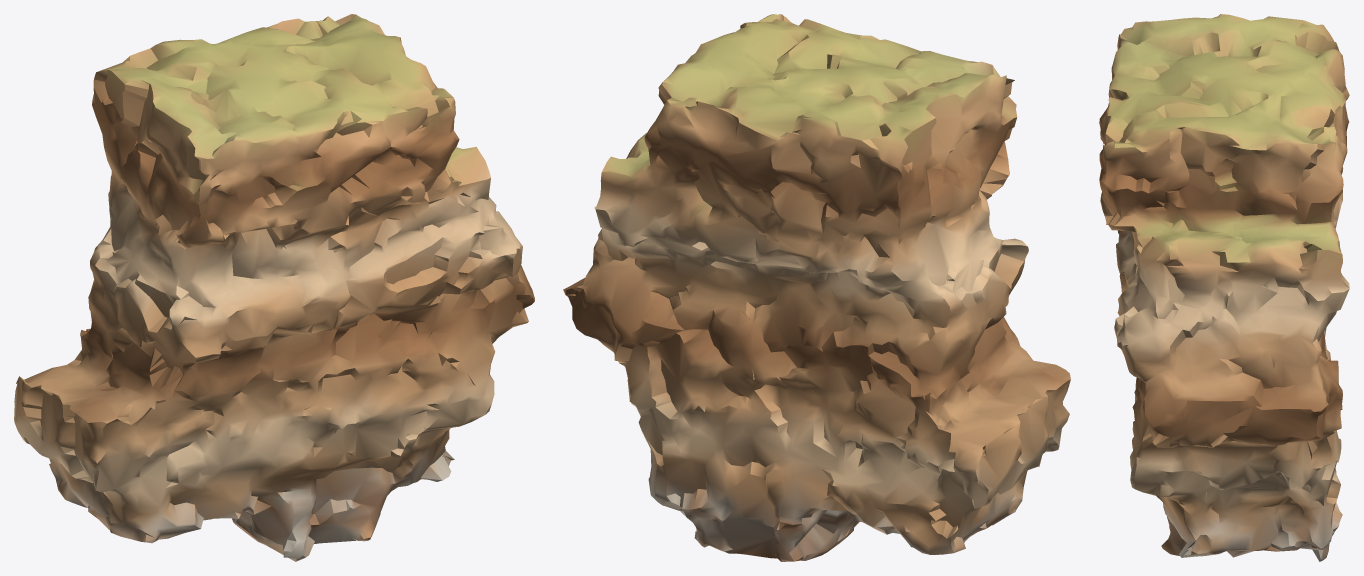
File: shore_cliff_a.glb
3 views of the same model, side by side, from view 1: azimuth 30°, elevation 25°; view 2: azimuth 150°, elevation 25°; view 3: azimuth 270°, elevation 25° (orthographic). The views are drawn at different scales.
Parts seen in each view (by area): view 1: shore_cliff_a; view 2: shore_cliff_a; view 3: shore_cliff_a.
Boxes of the visible parts, box(x1,y1,x2,y2) form: shore_cliff_a: box(14, 14, 534, 561); shore_cliff_a: box(563, 14, 1070, 561); shore_cliff_a: box(1099, 14, 1349, 561).
Size of the model in its own units: 28.79 by 29.5 by 14.54.
